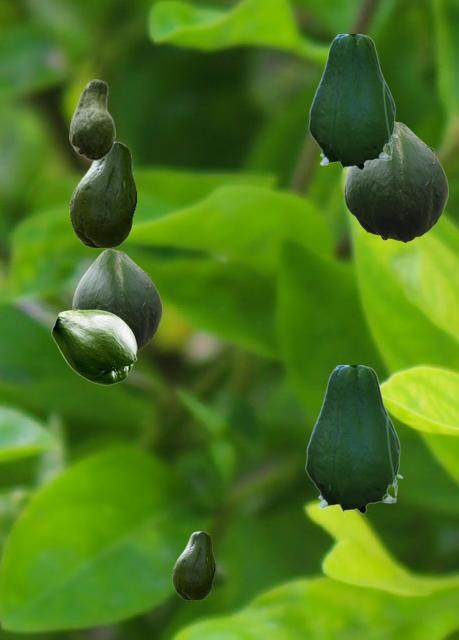sayote: (305, 365, 402, 516), (344, 121, 447, 242), (308, 34, 397, 172), (72, 249, 161, 351), (69, 141, 136, 247), (51, 309, 136, 384), (69, 79, 114, 160), (172, 531, 214, 599)
